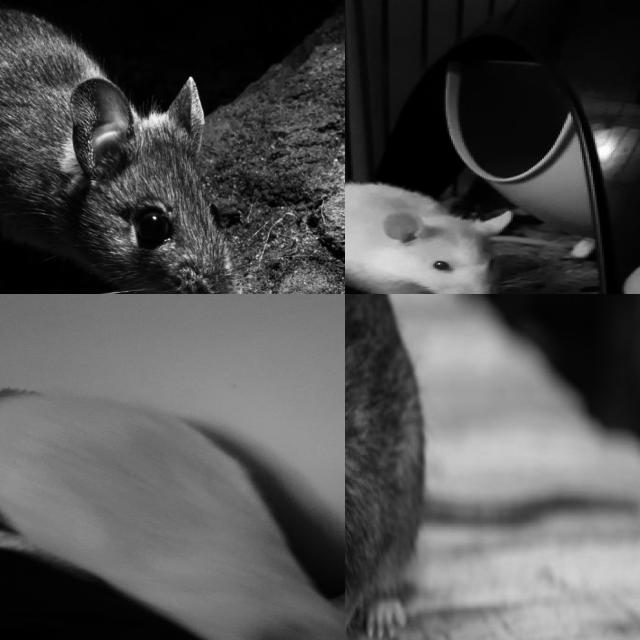rat: (0, 389, 345, 640), (0, 0, 238, 294), (345, 294, 423, 640), (345, 182, 511, 294)
